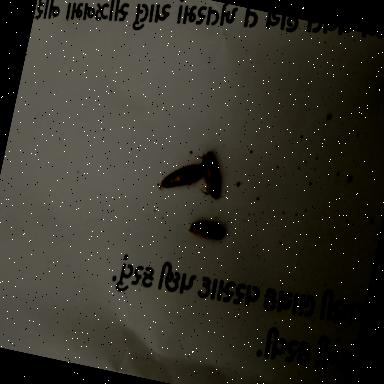pbw: (188, 148, 229, 200), (157, 158, 206, 199), (185, 212, 228, 244)
